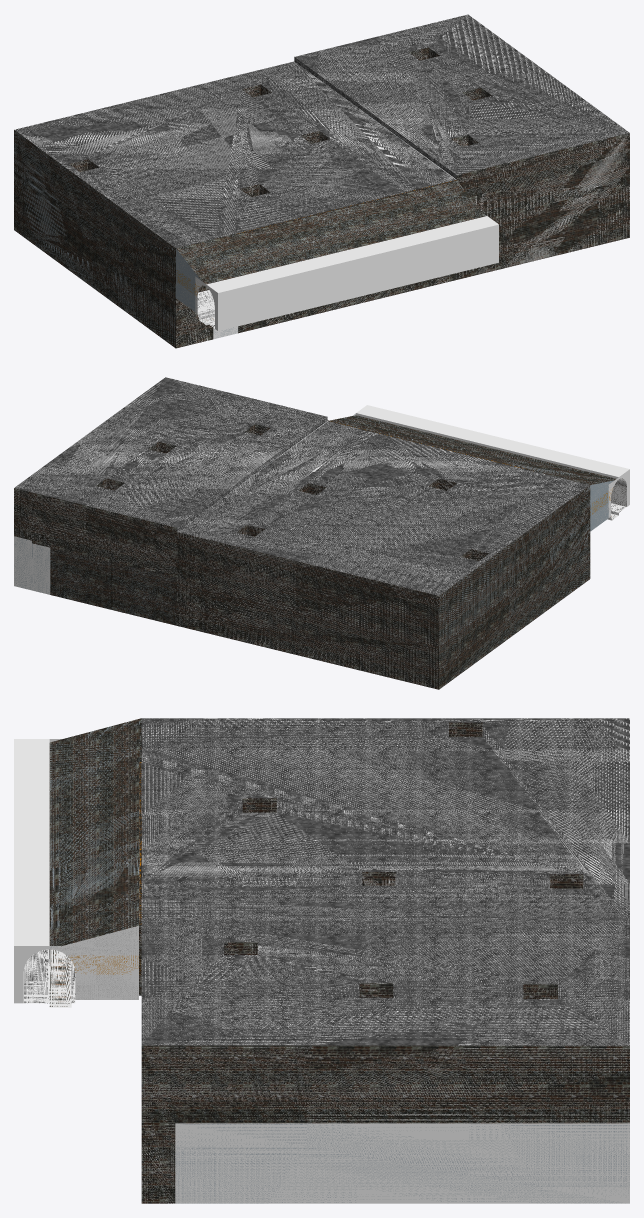
The model's file is Metro.fbx.
3 views of the same model, one above another, from view 1: azimuth 30°, elevation 25°; view 2: azimuth 150°, elevation 25°; view 3: azimuth 270°, elevation 25° (orthographic). The views are drawn at different scales.
Visible parts, largest first — view 1: Model; view 2: Model; view 3: Model.
Boxes of the visible parts, x1=… form: Model: x1=14, y1=14, x2=629, y2=348; Model: x1=14, y1=377, x2=629, y2=689; Model: x1=14, y1=718, x2=629, y2=1203.
Bounding box in the file's own units: 46.98 × 10.36 × 36.58.
